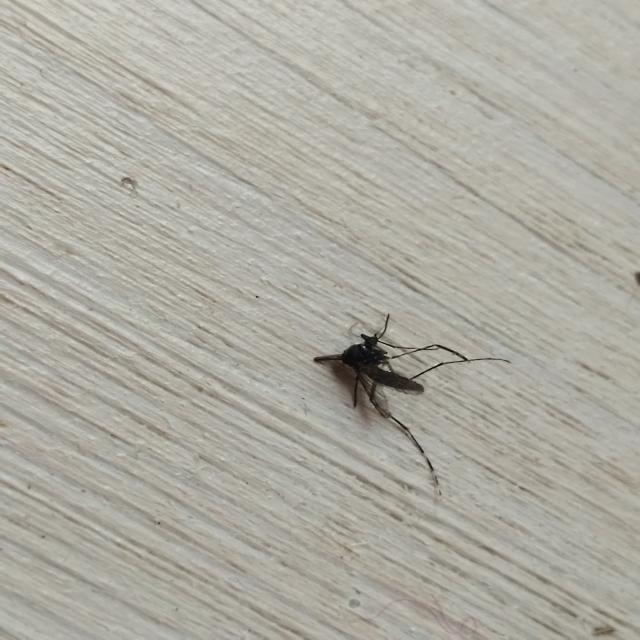albopictus: (307, 308, 506, 493)
